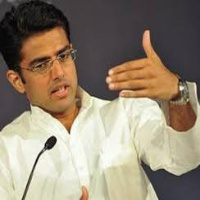ring: (108, 78, 156, 91)
